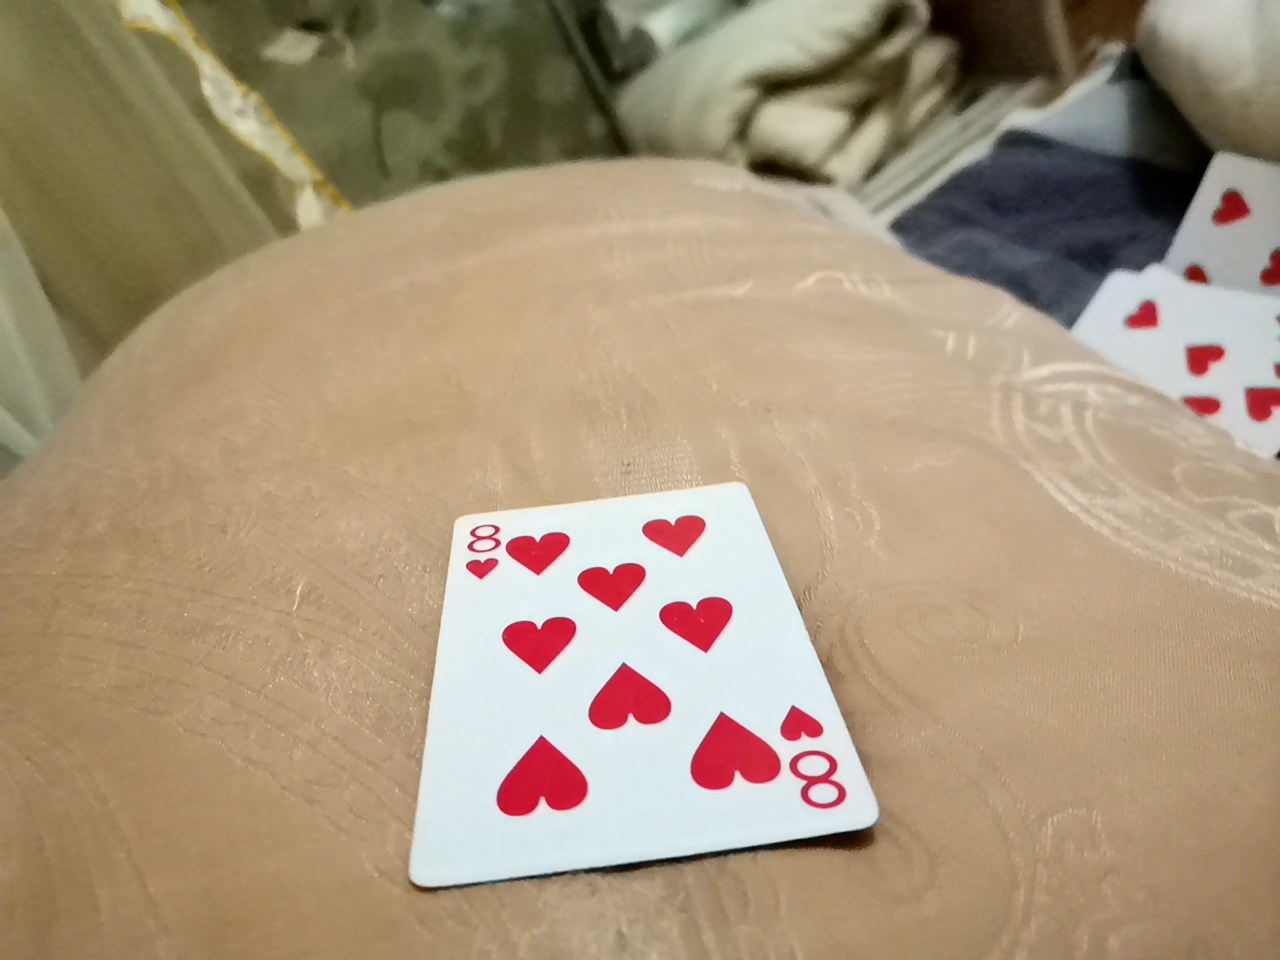hx 8: (370, 414, 907, 897)
